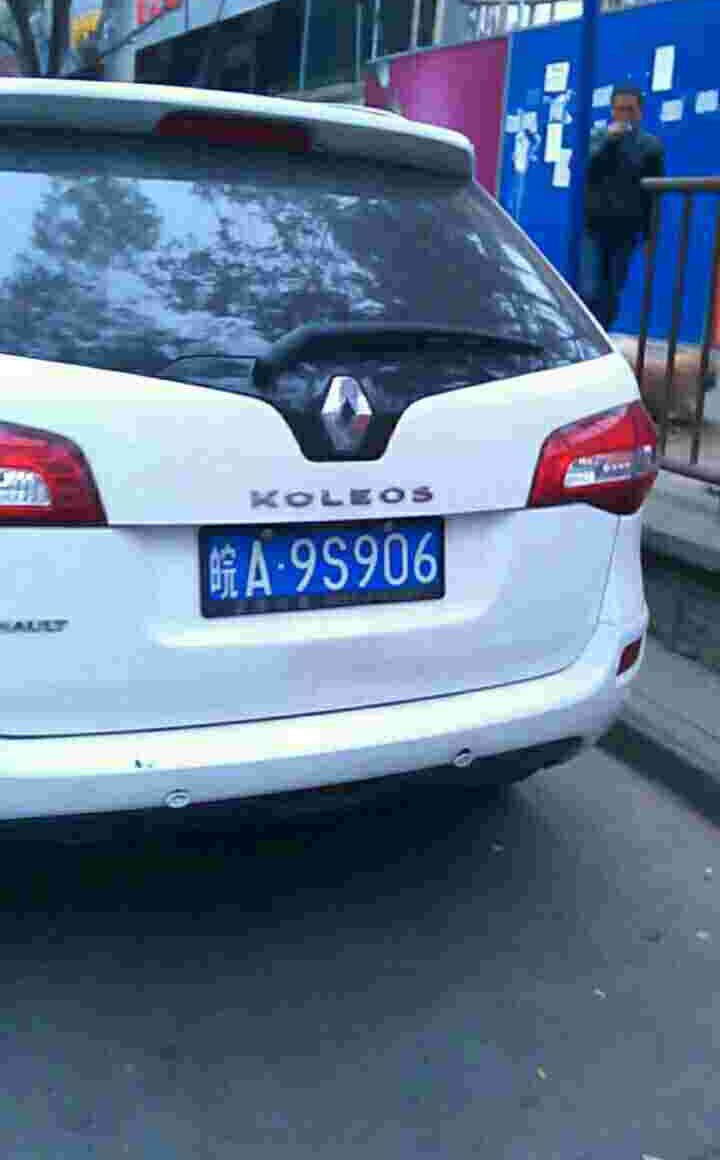license_plate: (195, 527, 446, 612)
